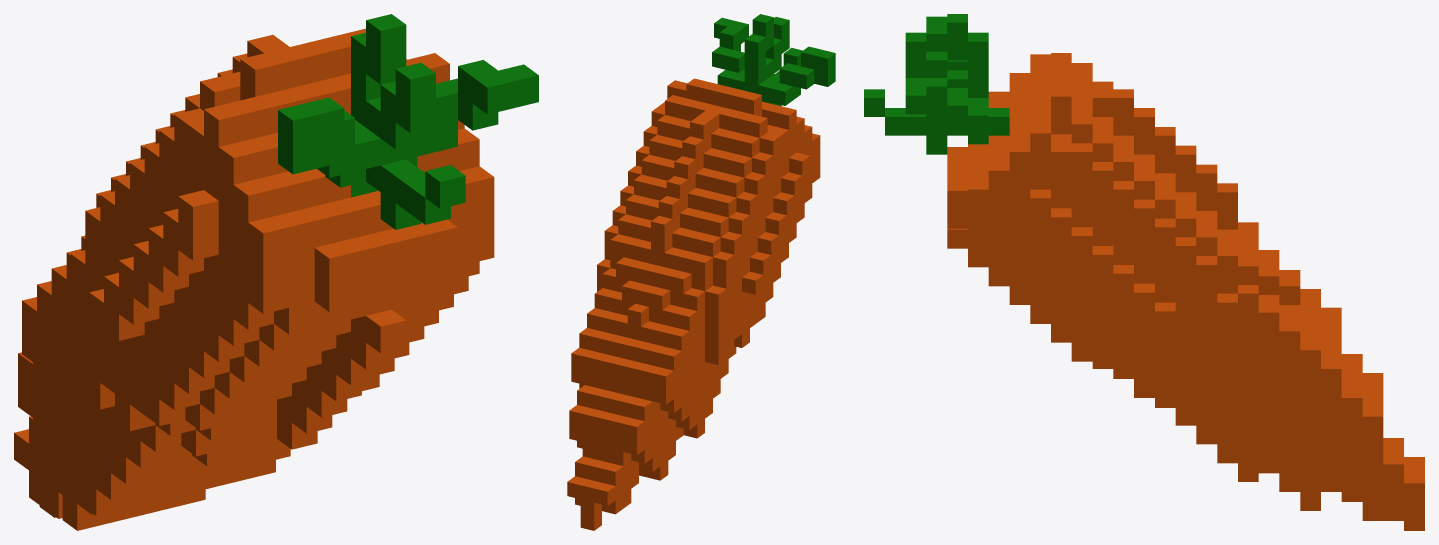
The model's file is carrot.fbx.
3 renders of one model, left to right at view 1: azimuth 30°, elevation 25°; view 2: azimuth 150°, elevation 25°; view 3: azimuth 270°, elevation 25°, orthographic. The views are drawn at different scales.
Parts seen in each view (by area): view 1: Untitled; view 2: Untitled; view 3: Untitled.
Part boxes in pixels (x1,y1,x2,y2): Untitled: [14, 14, 538, 530]; Untitled: [567, 14, 835, 530]; Untitled: [864, 14, 1424, 530].
Bounding box in the file's own units: 110 × 270 × 270.
